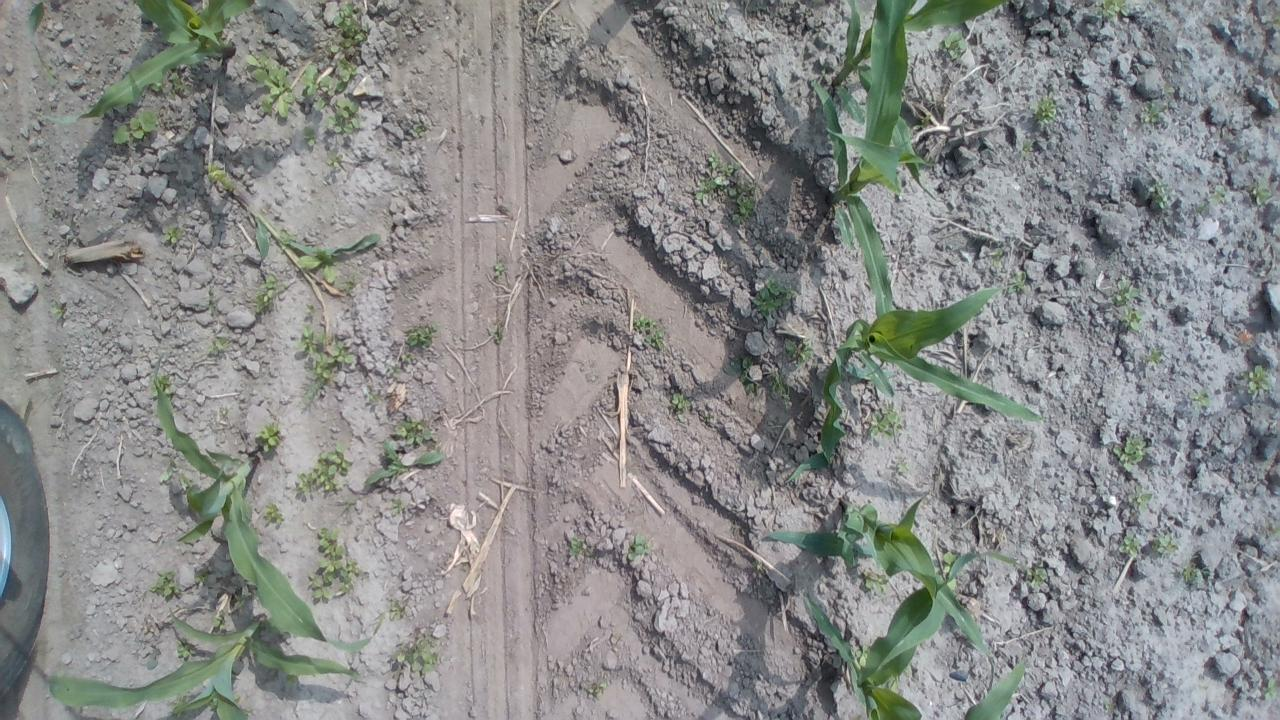Maize: (782, 188, 1046, 487), (150, 369, 384, 656), (762, 492, 996, 660), (800, 548, 1026, 720), (45, 612, 364, 720), (27, 0, 255, 127), (807, 0, 910, 253), (826, 0, 1012, 133), (224, 186, 385, 266)
Weeds: (278, 229, 383, 283), (696, 150, 762, 226), (295, 323, 355, 405), (300, 57, 362, 136), (308, 527, 360, 603), (365, 440, 444, 485), (246, 50, 296, 118), (294, 442, 352, 496), (318, 3, 367, 54), (391, 636, 441, 672), (752, 280, 798, 318), (110, 110, 154, 144), (1114, 434, 1152, 473), (869, 400, 904, 440), (255, 268, 285, 314), (392, 414, 434, 446), (724, 356, 756, 394), (634, 314, 667, 350), (402, 318, 440, 349), (147, 567, 185, 598), (207, 162, 238, 192), (940, 29, 969, 61), (768, 370, 792, 408), (782, 336, 813, 364), (669, 390, 694, 424), (1110, 274, 1140, 302), (254, 422, 280, 454), (862, 567, 891, 595), (168, 70, 194, 101), (627, 531, 654, 560), (1127, 484, 1153, 514), (1247, 364, 1273, 394), (1147, 179, 1170, 210), (388, 350, 413, 377), (1033, 93, 1056, 122), (260, 502, 287, 526), (1119, 528, 1142, 556), (1120, 302, 1142, 330), (1141, 102, 1169, 124), (1250, 179, 1272, 206), (150, 373, 173, 398), (568, 535, 592, 557), (943, 550, 956, 590), (1153, 534, 1178, 554), (1025, 567, 1048, 588), (1100, 0, 1129, 16), (161, 223, 184, 243), (586, 681, 610, 700), (1008, 270, 1028, 292), (1190, 387, 1212, 407), (851, 643, 868, 668), (176, 638, 197, 658), (211, 613, 232, 632), (301, 125, 319, 147), (389, 494, 407, 516), (1262, 677, 1278, 700), (990, 242, 1004, 268), (1142, 348, 1162, 366), (208, 338, 232, 352), (325, 152, 343, 170), (157, 463, 175, 481), (912, 114, 932, 129), (48, 302, 64, 320), (144, 652, 160, 670), (1182, 564, 1198, 582), (170, 694, 191, 707), (386, 600, 401, 618), (1210, 188, 1226, 204), (409, 124, 426, 138), (336, 279, 354, 291), (1162, 81, 1176, 96), (751, 558, 765, 572), (896, 462, 912, 474), (490, 327, 502, 343), (218, 405, 233, 417), (493, 261, 505, 276), (179, 478, 194, 490), (195, 574, 209, 586), (1022, 140, 1034, 154), (1104, 698, 1114, 714), (286, 674, 299, 686), (236, 594, 247, 608), (1272, 12, 1280, 30), (888, 677, 898, 690), (365, 392, 378, 402), (142, 624, 154, 634), (304, 302, 314, 314), (1197, 202, 1207, 213), (702, 415, 714, 424), (152, 81, 162, 91), (207, 302, 216, 313), (1272, 526, 1280, 536), (806, 7, 812, 18), (234, 694, 240, 703)
